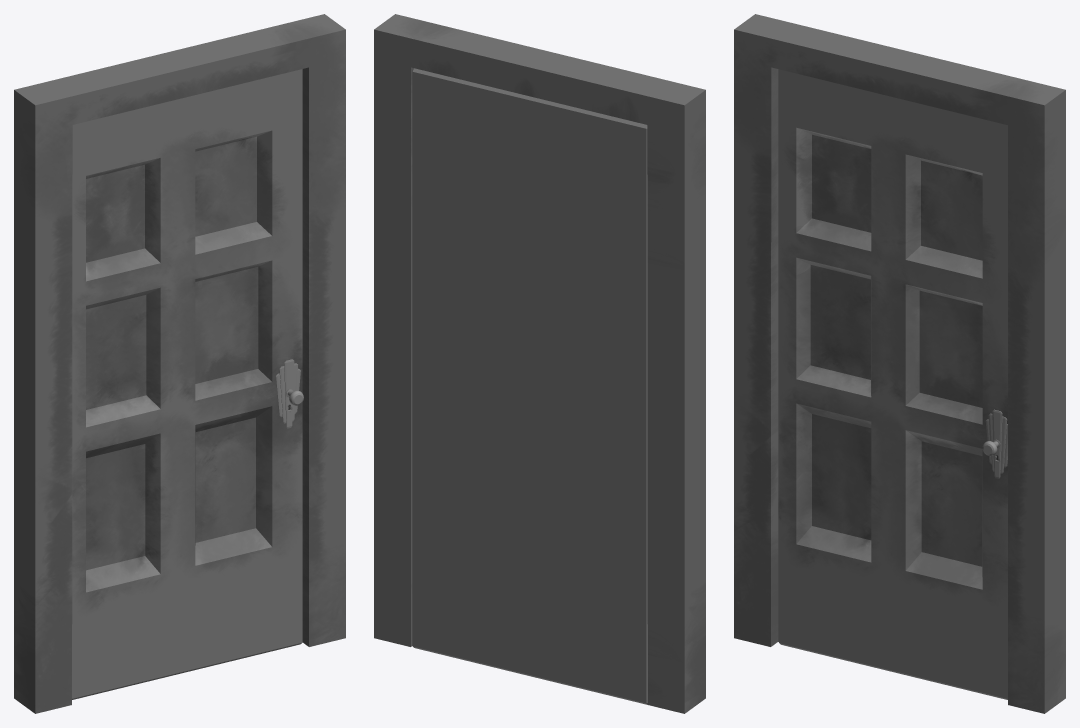
Rendered from door.fbx.
3 views of the same model, side by side, from view 1: azimuth 30°, elevation 25°; view 2: azimuth 150°, elevation 25°; view 3: azimuth 330°, elevation 25° (orthographic).
Visible parts, largest first — view 1: door_base, door_jam, knob_base; view 2: door_base, door_jam; view 3: door_base, door_jam, knob_base.
Part boxes in pixels (<box>): door_base: <box>72,69,302,699</box>; door_jam: <box>14,14,345,713</box>; knob_base: <box>275,359,300,428</box>; door_base: <box>412,68,647,704</box>; door_jam: <box>374,14,705,713</box>; door_base: <box>778,69,1007,699</box>; door_jam: <box>734,14,1065,713</box>; knob_base: <box>985,409,1007,478</box>.
Size of the model in its own units: 124 by 234 by 17.95.
3 materials, 3 textured.
